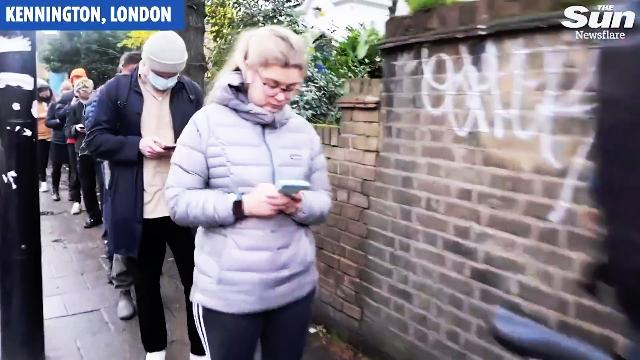berdiri: (172, 24, 336, 360), (81, 28, 217, 360)
